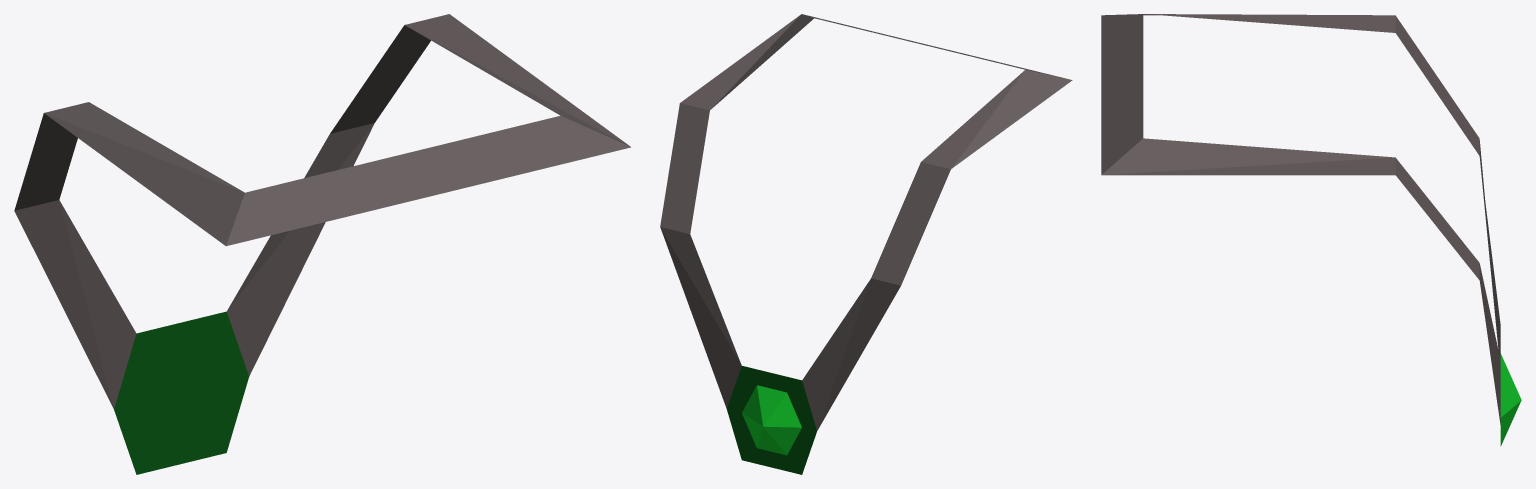
Rendered from npc_world_thormac_7.obj.
3 renders of one model, left to right at view 1: azimuth 30°, elevation 25°; view 2: azimuth 150°, elevation 25°; view 3: azimuth 270°, elevation 25°, orthographic. The views are drawn at different scales.
Size of the model in its own units: 0.1406 by 0.1562 by 0.1562.
